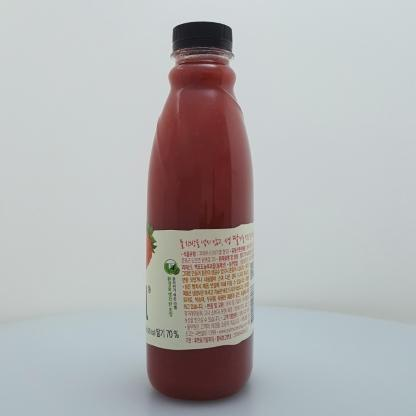--------------700ML: (146, 21, 254, 401)
